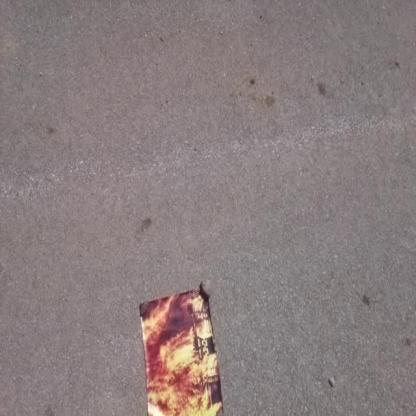fire-poster: (137, 280, 225, 415)
